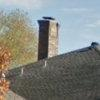Chimney: (34, 10, 65, 61)
